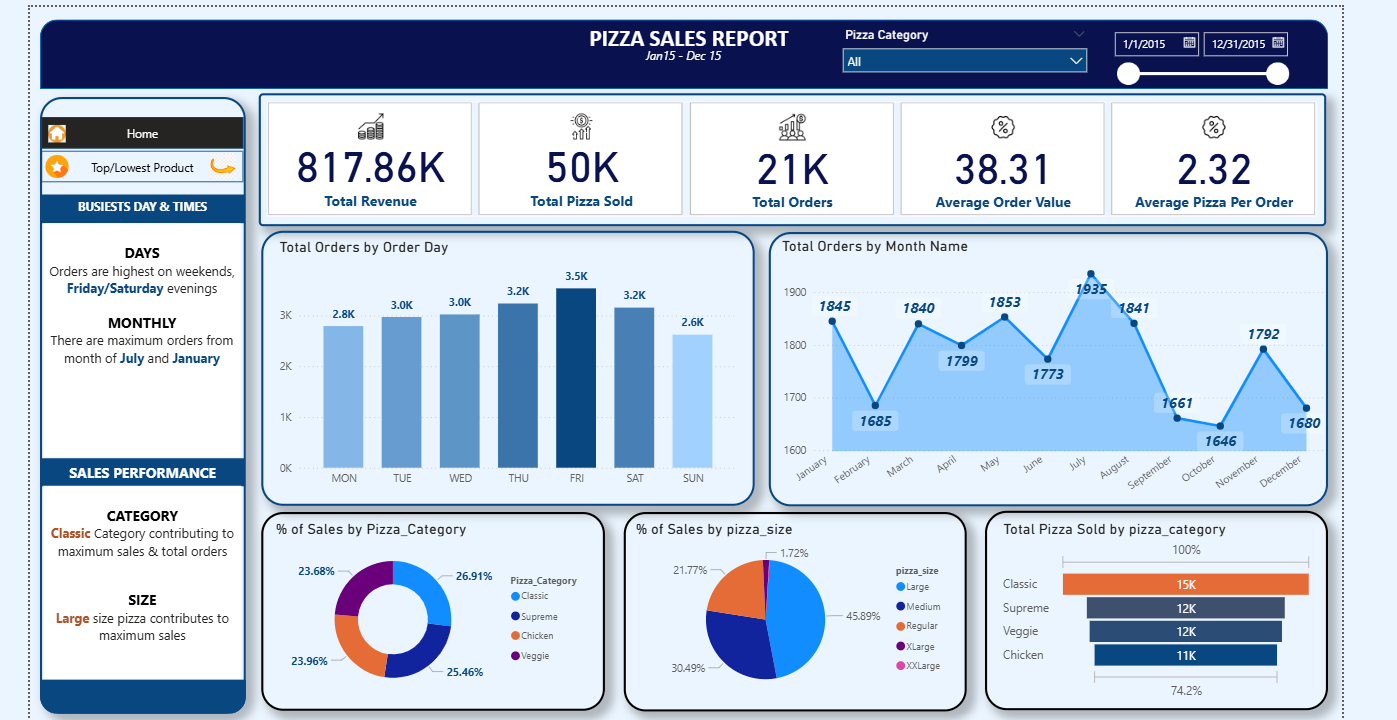

The page's visual inventory and layout, read from the dashboard file:
{"tool":"powerbi","page":{"name":"Home","canvas":[1500,820],"ordinal":0},"visuals":[{"type":"shape","box":[11.1,13.9,1472.1,79.4],"z":0},{"type":"cardVisual","fields":{"Data":["pizza_sales.Total Revenue","pizza_sales.Total Pizza Sold","pizza_sales.Total Orders","pizza_sales.Average Order Value","pizza_sales.Average Pizza Per Order"]},"box":[261.8,98.9,1220,151.8],"z":1000},{"type":"textbox","box":[633.7,13.9,238.1,58.5],"z":2000},{"type":"shape","box":[264.6,256.3,564,314.7],"z":3000},{"type":"shape","box":[844,257.6,639.2,313.4],"z":4000},{"type":"textbox","box":[699.1,41.8,98.9,30.6],"z":5000},{"type":"shape","box":[11.1,103.1,235.4,704.7],"z":6000},{"type":"columnChart","fields":{"Category":["pizza_sales.Order Day"],"Y":["pizza_sales.Total Orders"]},"box":[279.9,264.6,533.4,292.5],"z":7000},{"type":"areaChart","fields":{"Y":["pizza_sales.Total Orders"],"Category":["pizza_sales.Month Name"]},"box":[853.7,263.2,629.5,312],"z":8000},{"type":"shape","box":[264.3,577.1,392.9,227.1],"z":9000},{"type":"shape","box":[678.3,576.7,391.7,228.3],"z":10000},{"type":"shape","box":[1091.7,575,391.7,228.3],"z":11000},{"type":"donutChart","fields":{"Category":["pizza_sales.pizza_category"],"Y":["pizza_sales.Total Revenue"]},"box":[275.8,585.3,370.5,209.5],"z":12000},{"type":"pieChart","title":"% of Sales by pizza_size","fields":{"Category":["pizza_sales.pizza_size"],"Y":["pizza_sales.Total Revenue"]},"box":[686.7,585.6,374.4,210],"z":13000},{"type":"funnel","fields":{"Y":["pizza_sales.Total Pizza Sold"],"Category":["pizza_sales.pizza_category"]},"box":[1106.7,585.6,364.4,210],"z":14000},{"type":"textbox","box":[11.8,214.5,234.5,32.7],"z":15000},{"type":"textbox","box":[16.4,247.3,224.5,267.3],"z":16000},{"type":"textbox","box":[11.8,515.5,234.5,31.8],"z":17000},{"type":"textbox","box":[16.4,547.3,225.5,220.9],"z":18000},{"type":"slicer","fields":{"Values":["pizza_sales.pizza_category"]},"box":[919.2,18.1,299.4,72.4],"z":19000},{"type":"slicer","fields":{"Values":["pizza_sales.order_date"]},"box":[1226.9,18.1,220,72.4],"z":20000},{"type":"shape","box":[10.9,768.2,235.5,39.1],"z":21000},{"type":"pageNavigator","box":[12.5,126.2,231.2,36.2],"z":21001},{"type":"pageNavigator","box":[12.5,165,231.2,36.2],"z":21002},{"type":"image","box":[12.5,130,36.2,30],"z":21003},{"type":"image","box":[12.5,165,36.2,36.2],"z":21004},{"type":"image","box":[201.2,162.5,38.8,38.8],"z":21005}]}

Visuals, with their boxes on the page's 1500x820 design canvas (x1, y1, x2, y2). These are canvas units, not pixel positions in the 1397x720 screenshot, which may show the page scaled, cropped or inside an application window:
shape: (x1=11, y1=14, x2=1483, y2=93)
cardVisual - pizza_sales.Total Revenue x pizza_sales.Total Pizza Sold: (x1=262, y1=99, x2=1482, y2=251)
textbox: (x1=634, y1=14, x2=872, y2=72)
shape: (x1=265, y1=256, x2=829, y2=571)
shape: (x1=844, y1=258, x2=1483, y2=571)
textbox: (x1=699, y1=42, x2=798, y2=72)
shape: (x1=11, y1=103, x2=246, y2=808)
columnChart - pizza_sales.Order Day x pizza_sales.Total Orders: (x1=280, y1=265, x2=813, y2=557)
areaChart - pizza_sales.Total Orders x pizza_sales.Month Name: (x1=854, y1=263, x2=1483, y2=575)
shape: (x1=264, y1=577, x2=657, y2=804)
shape: (x1=678, y1=577, x2=1070, y2=805)
shape: (x1=1092, y1=575, x2=1483, y2=803)
donutChart - pizza_sales.pizza_category x pizza_sales.Total Revenue: (x1=276, y1=585, x2=646, y2=795)
"% of Sales by pizza_size" pieChart: (x1=687, y1=586, x2=1061, y2=796)
funnel - pizza_sales.Total Pizza Sold x pizza_sales.pizza_category: (x1=1107, y1=586, x2=1471, y2=796)
textbox: (x1=12, y1=214, x2=246, y2=247)
textbox: (x1=16, y1=247, x2=241, y2=515)
textbox: (x1=12, y1=516, x2=246, y2=547)
textbox: (x1=16, y1=547, x2=242, y2=768)
slicer - pizza_sales.pizza_category: (x1=919, y1=18, x2=1219, y2=90)
slicer - pizza_sales.order_date: (x1=1227, y1=18, x2=1447, y2=90)
shape: (x1=11, y1=768, x2=246, y2=807)
pageNavigator: (x1=12, y1=126, x2=244, y2=162)
pageNavigator: (x1=12, y1=165, x2=244, y2=201)
image: (x1=12, y1=130, x2=49, y2=160)
image: (x1=12, y1=165, x2=49, y2=201)
image: (x1=201, y1=162, x2=240, y2=201)
